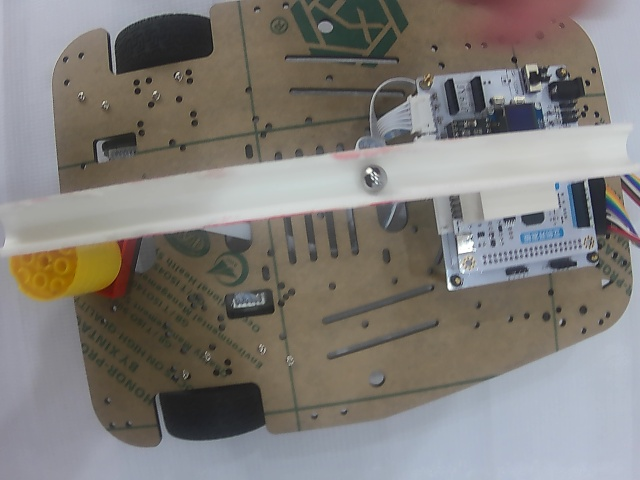steelball: (360, 162, 388, 195)
